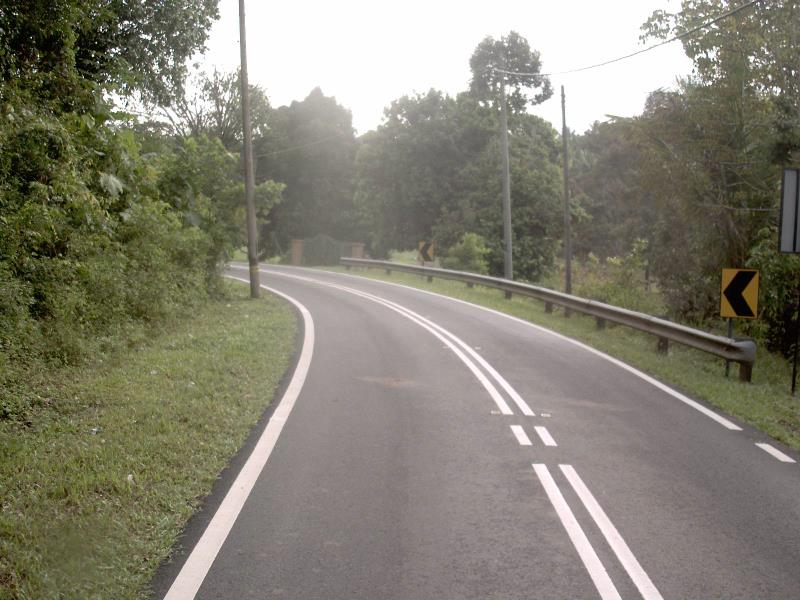traffic_sign: (711, 260, 764, 328)
